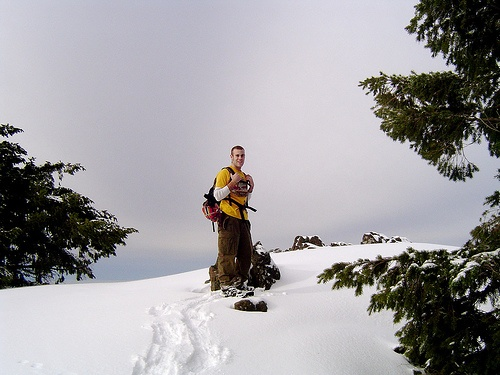person: (214, 146, 256, 298)
person/foot: (218, 285, 242, 297)
person/hand: (232, 172, 242, 185), (246, 176, 256, 186)
person/head: (229, 146, 247, 167)
